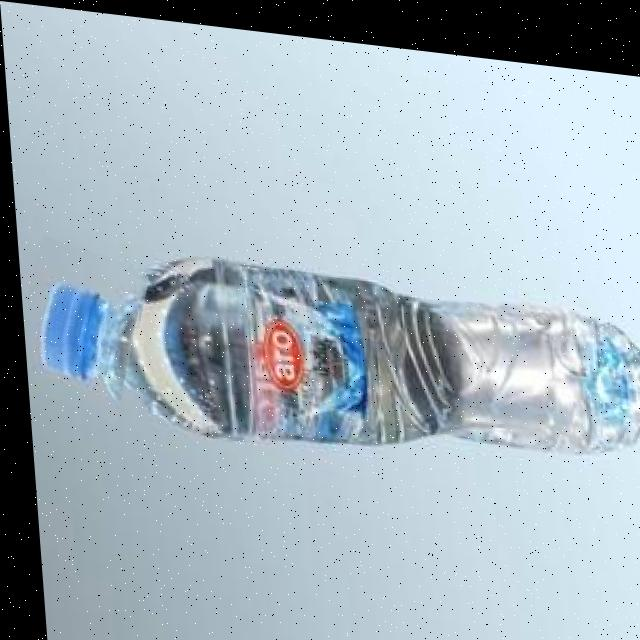plasticbottlecap: (14, 238, 143, 419)
